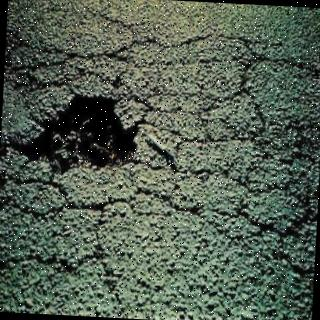pothole: (16, 95, 137, 173)
